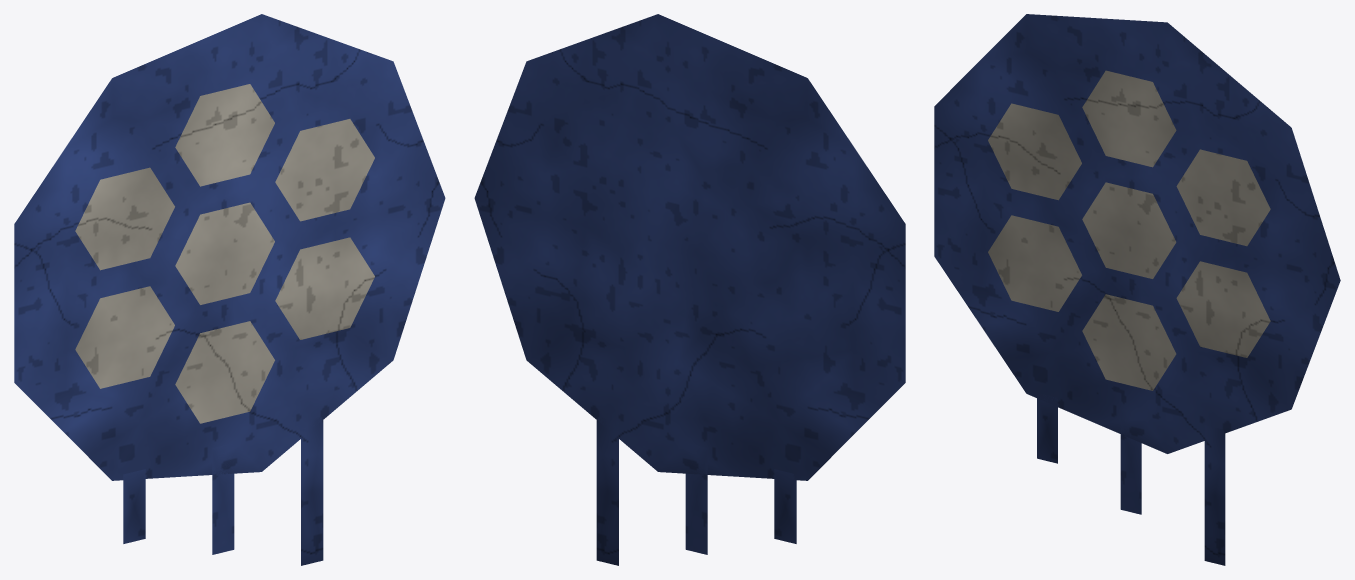
Rendered from tag_nuee.glb.
3 views of the same model, side by side, from view 1: azimuth 30°, elevation 25°; view 2: azimuth 150°, elevation 25°; view 3: azimuth 330°, elevation 25° (orthographic). The views are drawn at different scales.
Visible parts, largest first — view 1: group_0, group_5; view 2: group_0; view 3: group_0, group_5.
Boxes of the visible parts, bbox=[...] form: group_0: bbox=[14, 14, 445, 565]; group_5: bbox=[75, 84, 374, 423]; group_0: bbox=[474, 14, 905, 565]; group_0: bbox=[934, 14, 1340, 565]; group_5: bbox=[988, 70, 1270, 390].
Bounding box in the file's own units: 3.88 × 4.83 × 0.03.
2 materials, 2 textured.
